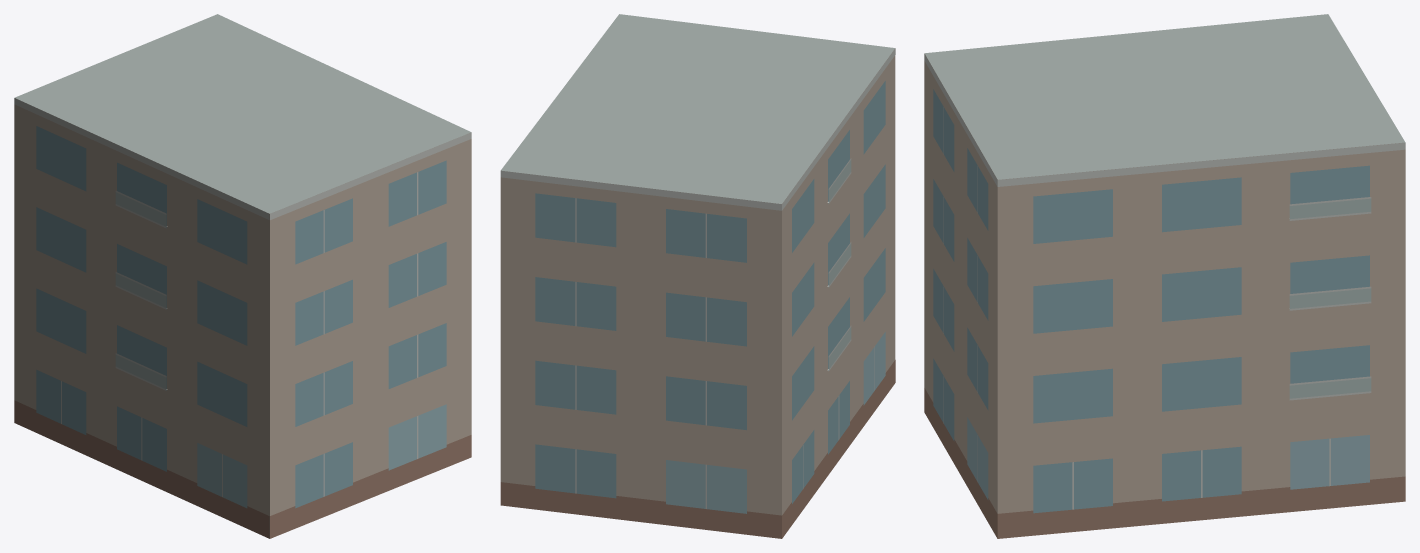
File: survey-upis-32562094.glb
The picture shows the model from 3 angles, left to right: view 1: azimuth 30°, elevation 25°; view 2: azimuth 150°, elevation 25°; view 3: azimuth 270°, elevation 25°; orthographic projection. The views are drawn at different scales.
Parts seen in each view (by area): view 1: survey-upis-32562094.tmp; view 2: survey-upis-32562094.tmp; view 3: survey-upis-32562094.tmp.
Part boxes in pixels (x1,y1,x2,y2): survey-upis-32562094.tmp: [14, 14, 471, 538]; survey-upis-32562094.tmp: [500, 14, 895, 538]; survey-upis-32562094.tmp: [924, 14, 1405, 538].
Bounding box in the file's own units: 12.1 × 12.2 × 14.83.
